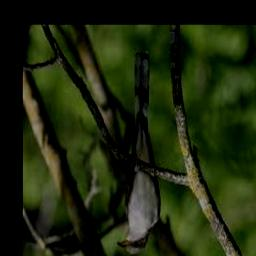Cuckoo: (117, 52, 160, 254)
